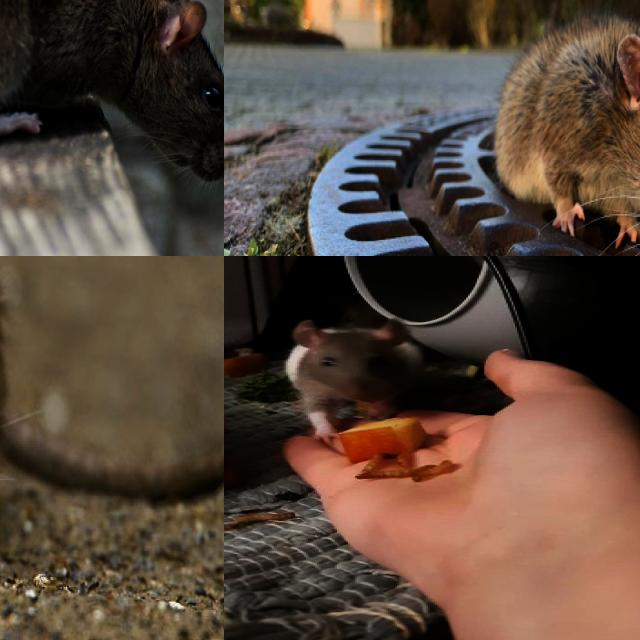rat: (0, 0, 224, 184), (485, 3, 640, 256), (283, 314, 435, 445)
